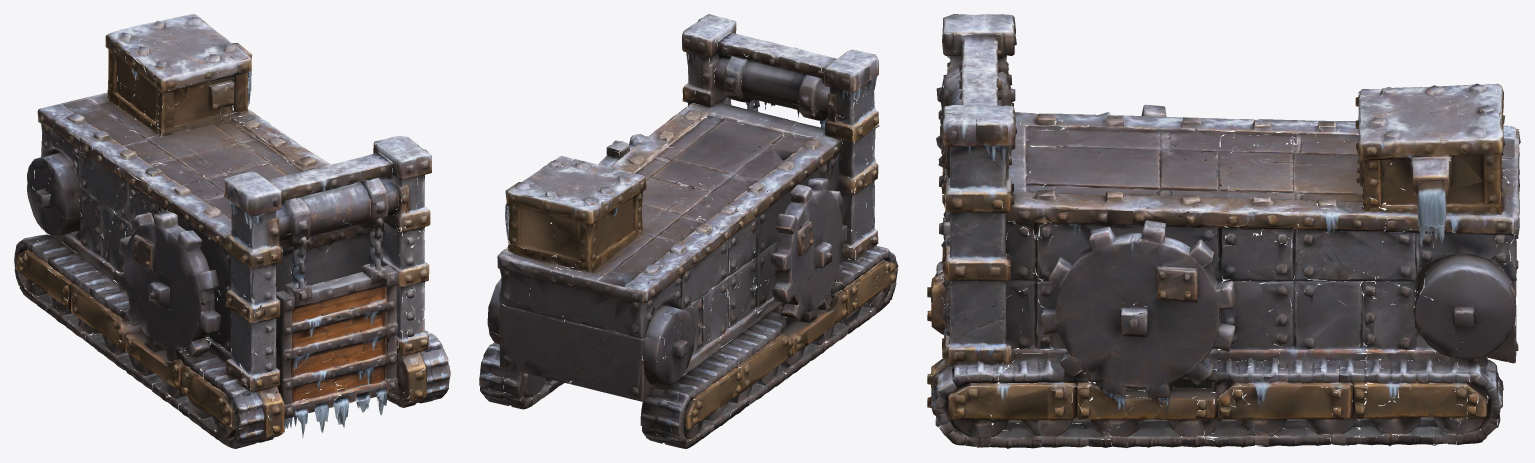
File: gatewinder.glb
The picture shows the model from 3 angles, left to right: view 1: azimuth 30°, elevation 25°; view 2: azimuth 150°, elevation 25°; view 3: azimuth 270°, elevation 25°; orthographic projection. The views are drawn at different scales.
Parts seen in each view (by area): view 1: tripo_node_5853736b-a4d7-4310-89f5-c02d79557443; view 2: tripo_node_5853736b-a4d7-4310-89f5-c02d79557443; view 3: tripo_node_5853736b-a4d7-4310-89f5-c02d79557443.
Boxes of the visible parts, bbox=[...] form: tripo_node_5853736b-a4d7-4310-89f5-c02d79557443: bbox=[14, 14, 450, 448]; tripo_node_5853736b-a4d7-4310-89f5-c02d79557443: bbox=[479, 14, 898, 448]; tripo_node_5853736b-a4d7-4310-89f5-c02d79557443: bbox=[927, 14, 1520, 448].
Bounding box in the file's own units: 0.5596 × 0.5807 × 0.9784.
1 material, 1 textured.
